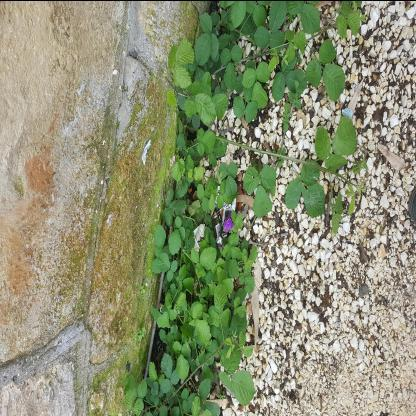plastik: (186, 181, 250, 205), (224, 212, 254, 227)
